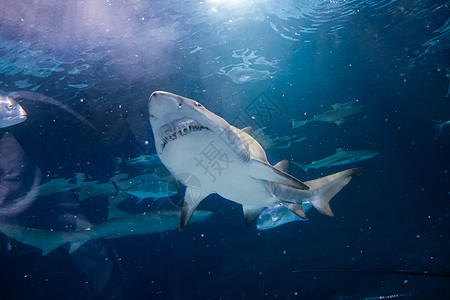shark: (141, 83, 369, 232)
